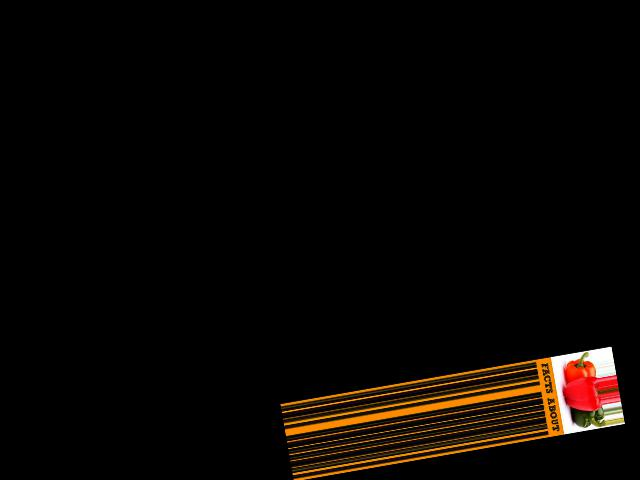bell_pepper: (566, 406, 605, 432)
